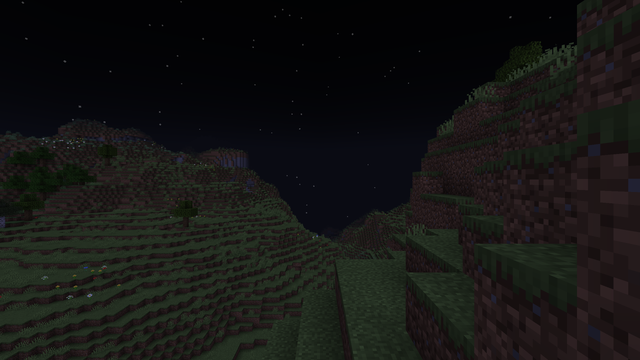zombies: (116, 342, 120, 351)
